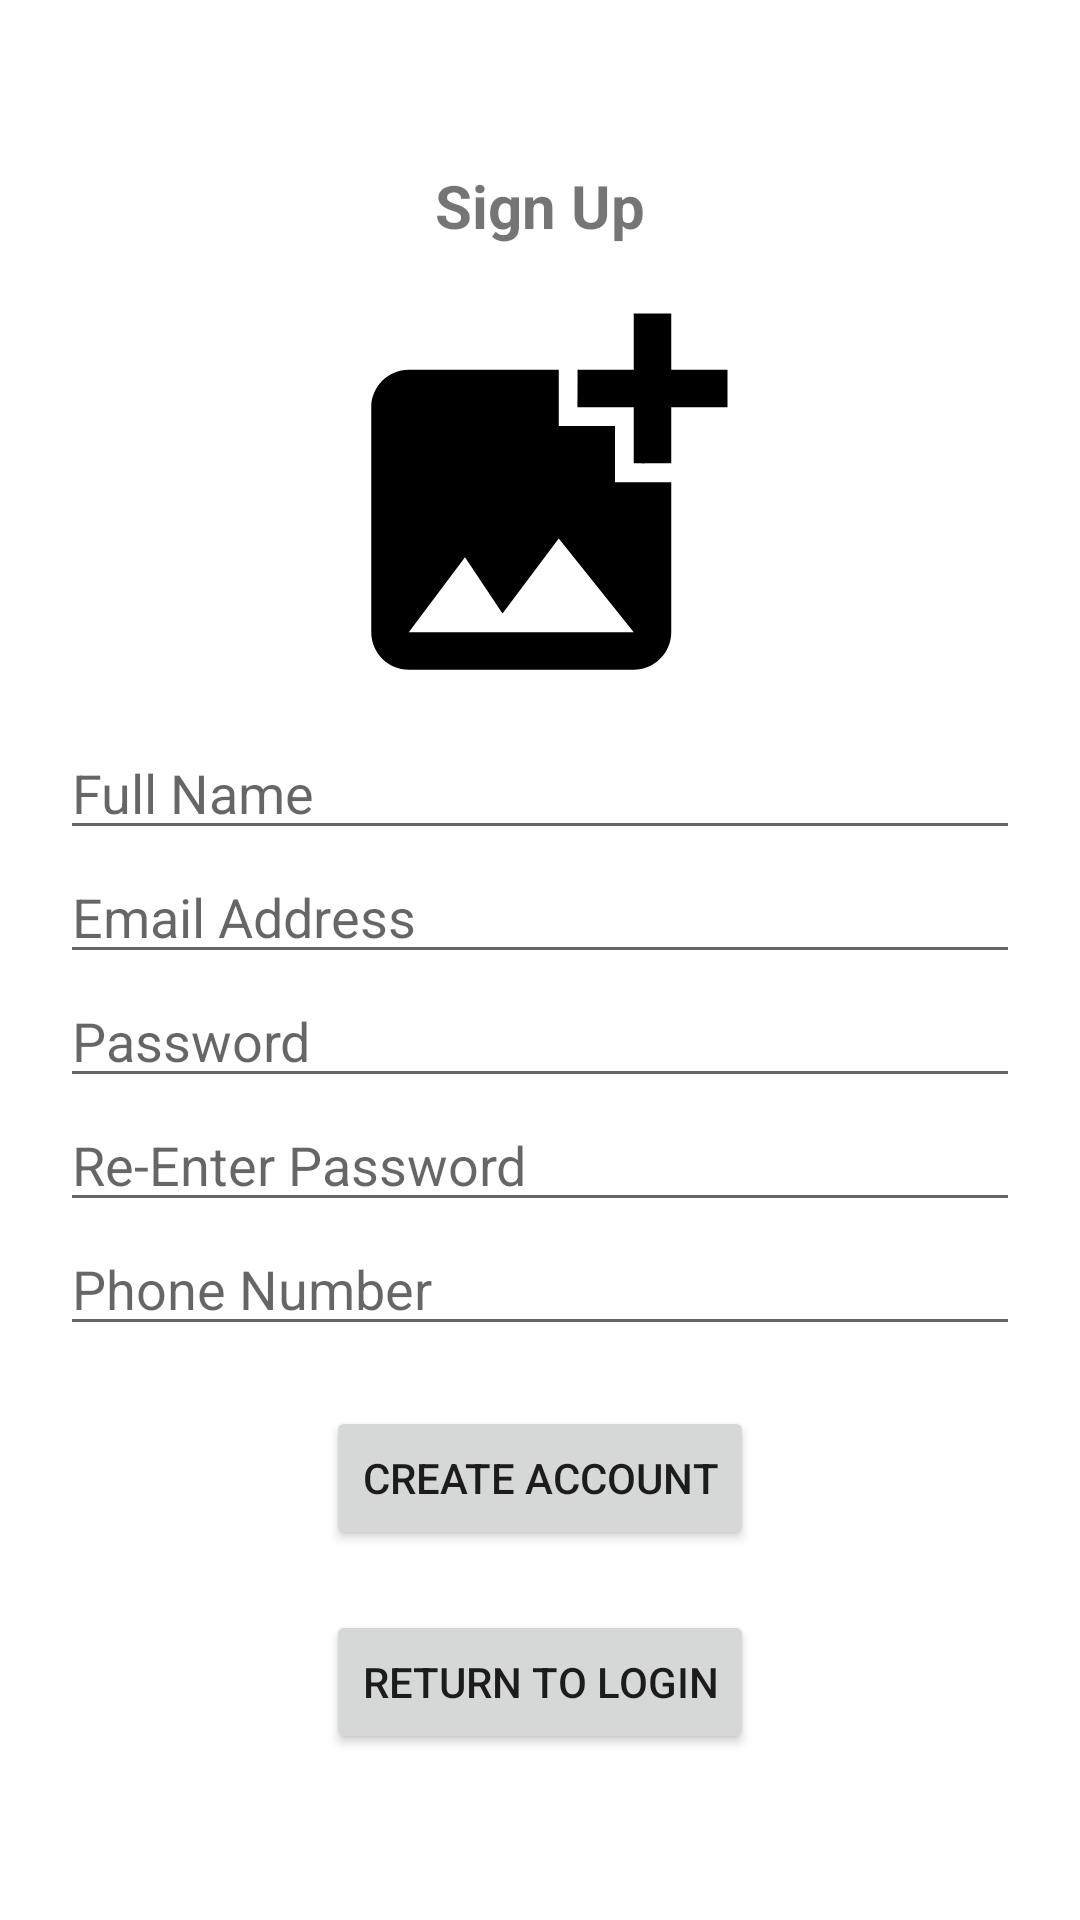

Named icons in this screenshot (1080×1920) and their centers, [x,y]:
add photo alternate: [549,491]
